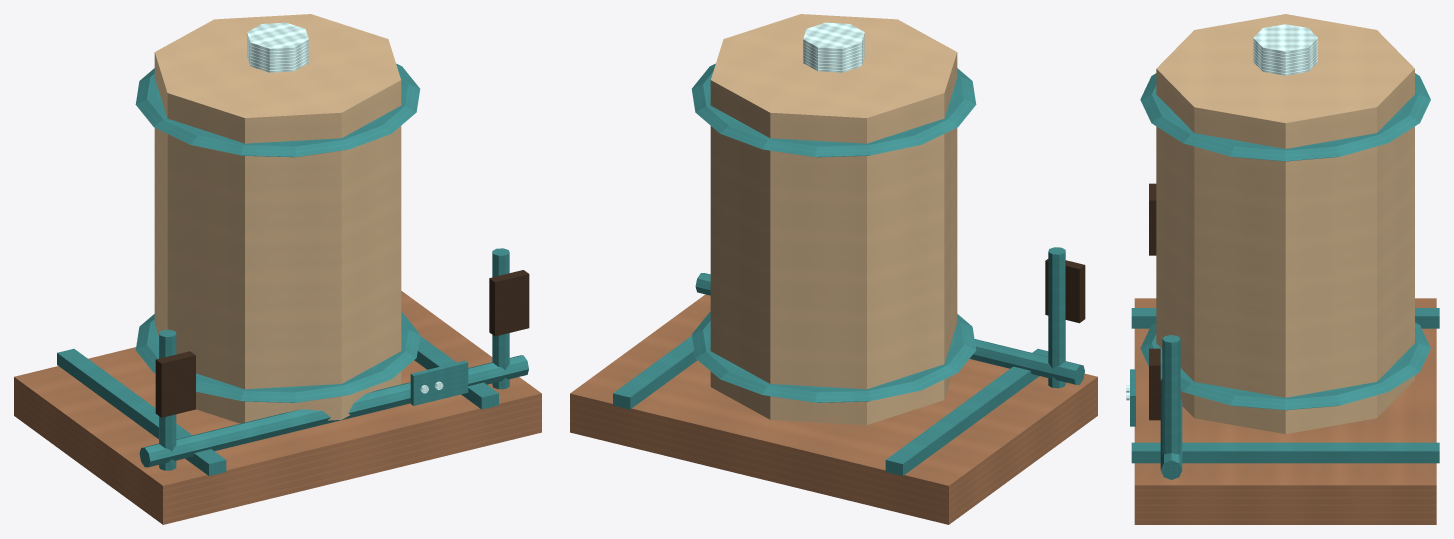
The model's file is atlas100-s098-a06.glb.
3 views of the same model, side by side, from view 1: azimuth 30°, elevation 25°; view 2: azimuth 150°, elevation 25°; view 3: azimuth 270°, elevation 25° (orthographic).
Parts seen in each view (by area): view 1: atlas100-s098-a06:part-003, atlas100-s098-a06:part-000, atlas100-s098-a06:part-012, atlas100-s098-a06:part-005, atlas100-s098-a06:part-004, atlas100-s098-a06:part-001, atlas100-s098-a06:part-006, atlas100-s098-a06:part-011, atlas100-s098-a06:part-009, atlas100-s098-a06:part-013, atlas100-s098-a06:part-002, atlas100-s098-a06:part-008 (+1 smaller); view 2: atlas100-s098-a06:part-003, atlas100-s098-a06:part-000, atlas100-s098-a06:part-005, atlas100-s098-a06:part-004, atlas100-s098-a06:part-001, atlas100-s098-a06:part-006, atlas100-s098-a06:part-012, atlas100-s098-a06:part-008, atlas100-s098-a06:part-002, atlas100-s098-a06:part-009; view 3: atlas100-s098-a06:part-003, atlas100-s098-a06:part-000, atlas100-s098-a06:part-002, atlas100-s098-a06:part-005, atlas100-s098-a06:part-004, atlas100-s098-a06:part-006, atlas100-s098-a06:part-010, atlas100-s098-a06:part-001, atlas100-s098-a06:part-012, atlas100-s098-a06:part-011, atlas100-s098-a06:part-009.
Boxes of the visible parts, <box> form: atlas100-s098-a06:part-003: <box>154,14,401,423</box>; atlas100-s098-a06:part-000: <box>14,291,541,524</box>; atlas100-s098-a06:part-012: <box>139,355,528,467</box>; atlas100-s098-a06:part-005: <box>135,63,420,157</box>; atlas100-s098-a06:part-004: <box>135,312,420,402</box>; atlas100-s098-a06:part-001: <box>57,348,226,475</box>; atlas100-s098-a06:part-006: <box>247,22,308,72</box>; atlas100-s098-a06:part-011: <box>489,270,529,336</box>; atlas100-s098-a06:part-009: <box>155,351,195,417</box>; atlas100-s098-a06:part-013: <box>410,360,468,405</box>; atlas100-s098-a06:part-002: <box>414,336,498,409</box>; atlas100-s098-a06:part-008: <box>159,329,176,470</box>; atlas100-s098-a06:part-003: <box>710,14,957,425</box>; atlas100-s098-a06:part-000: <box>570,294,1097,524</box>; atlas100-s098-a06:part-005: <box>691,63,976,157</box>; atlas100-s098-a06:part-004: <box>691,312,976,402</box>; atlas100-s098-a06:part-001: <box>885,348,1048,475</box>; atlas100-s098-a06:part-006: <box>803,22,864,72</box>; atlas100-s098-a06:part-012: <box>695,273,1084,384</box>; atlas100-s098-a06:part-008: <box>1048,247,1065,388</box>; atlas100-s098-a06:part-002: <box>613,336,697,409</box>; atlas100-s098-a06:part-009: <box>1045,259,1085,323</box>; atlas100-s098-a06:part-003: <box>1156,14,1414,434</box>; atlas100-s098-a06:part-000: <box>1134,298,1436,524</box>; atlas100-s098-a06:part-002: <box>1131,442,1439,463</box>; atlas100-s098-a06:part-005: <box>1140,73,1430,161</box>; atlas100-s098-a06:part-004: <box>1140,322,1430,410</box>; atlas100-s098-a06:part-006: <box>1253,24,1317,75</box>; atlas100-s098-a06:part-010: <box>1162,335,1180,454</box>; atlas100-s098-a06:part-001: <box>1131,308,1439,328</box>; atlas100-s098-a06:part-012: <box>1160,379,1182,479</box>; atlas100-s098-a06:part-011: <box>1149,348,1160,420</box>; atlas100-s098-a06:part-009: <box>1149,183,1156,255</box>.
Size of the model in its own units: 2.64 by 2.59 by 1.87.
Materials: 5 (5 with a texture image).
